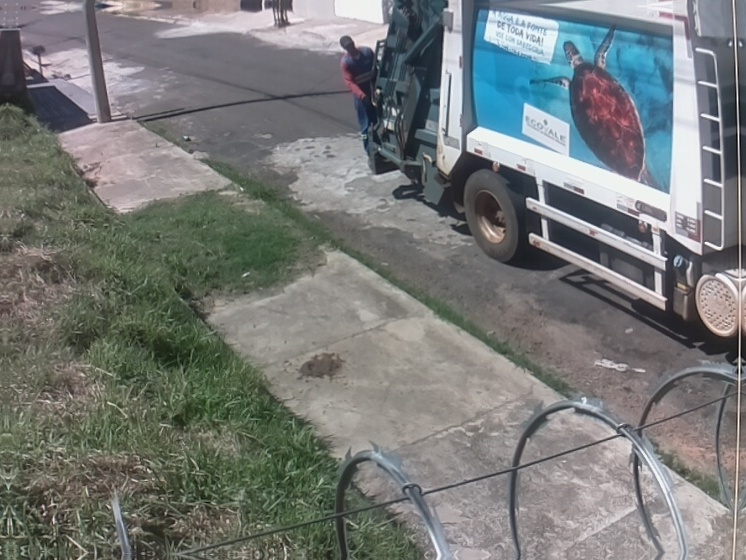person: (338, 35, 378, 156)
